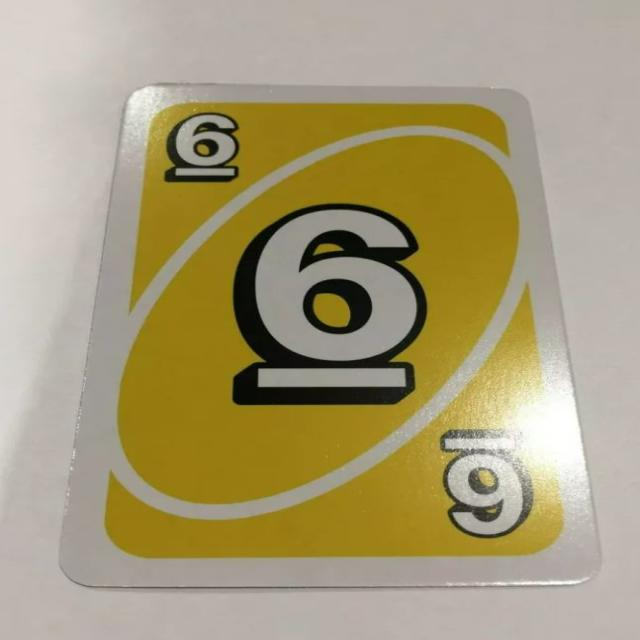Number_6: (159, 105, 242, 190)
Yellow_Card: (89, 98, 570, 563)
